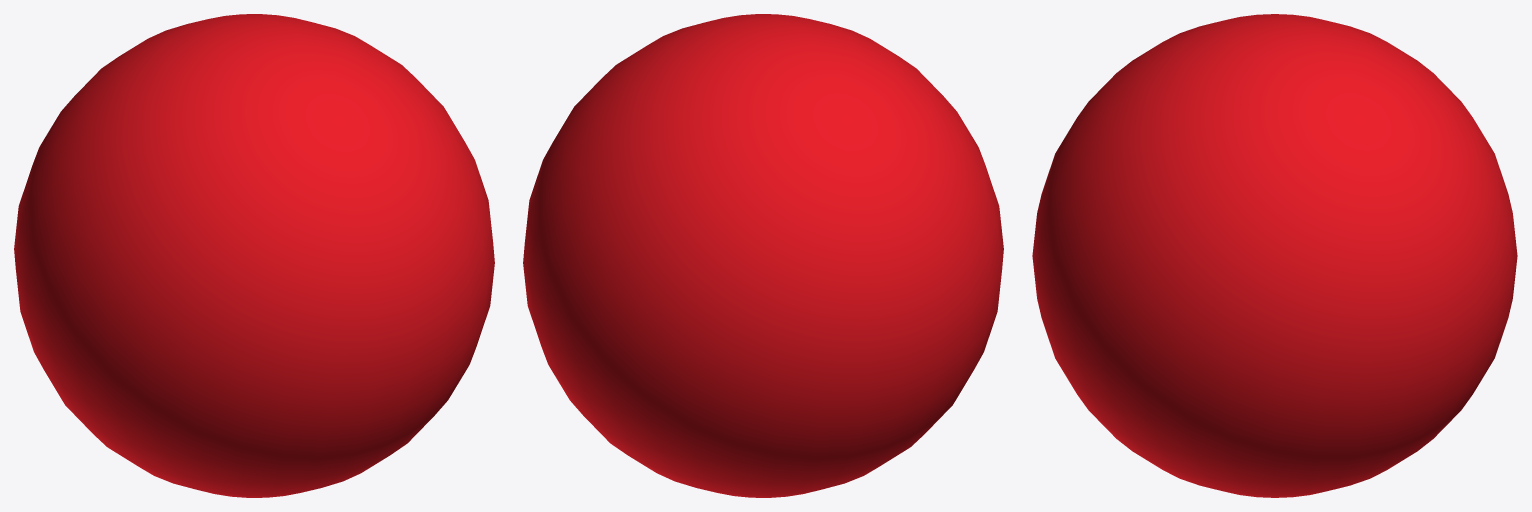
The model's file is Atom.fbx.
3 views of the same model, side by side, from view 1: azimuth 30°, elevation 25°; view 2: azimuth 150°, elevation 25°; view 3: azimuth 270°, elevation 25° (orthographic).
Parts seen in each view (by area): view 1: Sphere.002; view 2: Sphere.002; view 3: Sphere.002.
Part boxes in pixels (x1,y1,x2,y2): Sphere.002: (14,14,494,497); Sphere.002: (523,14,1003,497); Sphere.002: (1032,14,1517,497).
Size of the model in its own units: 71.33 by 71.92 by 71.92.
